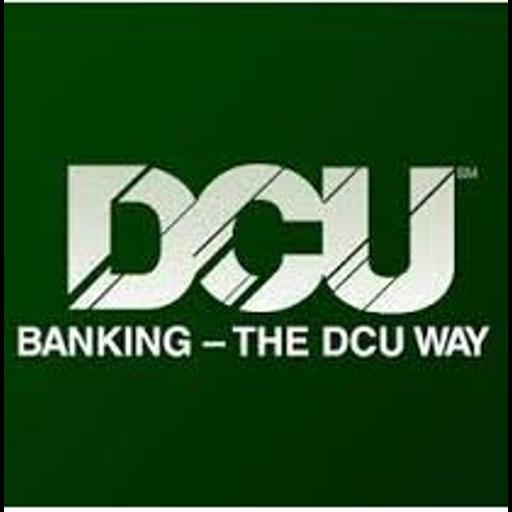Digital Federal Credit Union: (4, 0, 508, 512)
